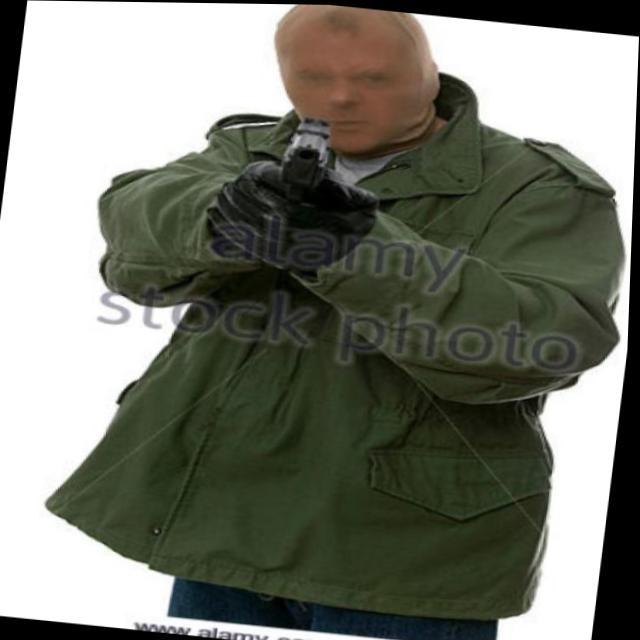weapon: (275, 111, 335, 194)
